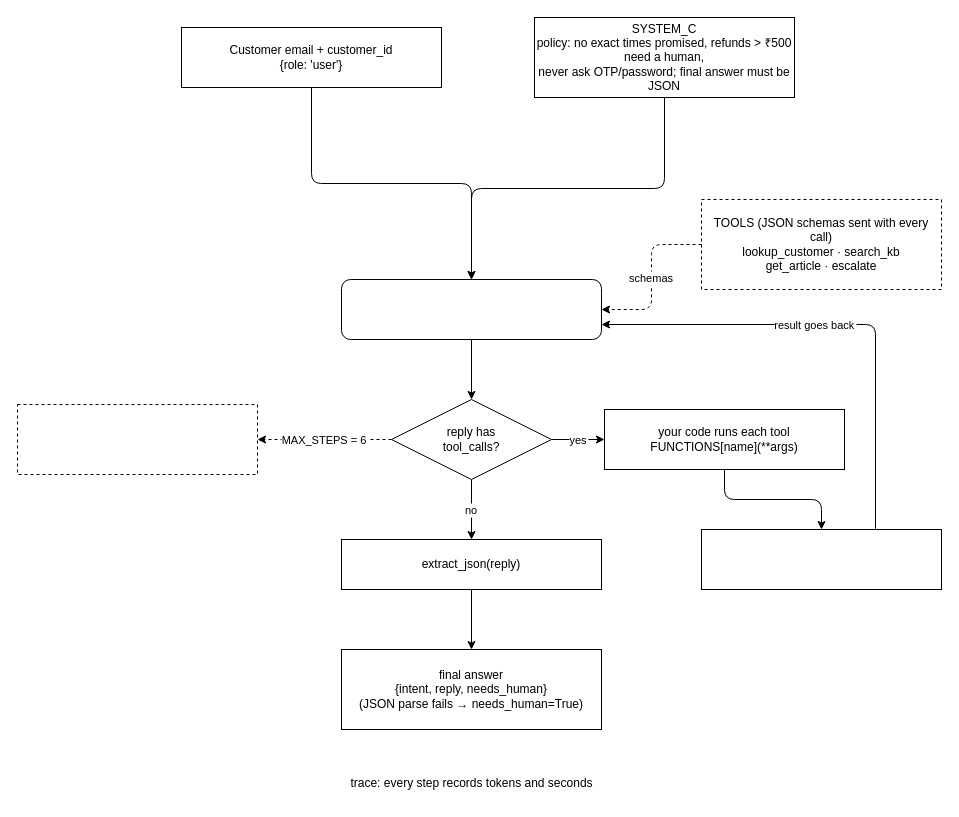
The diagram is 959 pixels wide and 817 high, and some of its shapes have lost their labels. Here are the shapes that lost their labels. From the top down, the centre of each, then its label:
At pixel 471 309: "chat(messages, tools=TOOLS) the model call (Ollama, temperature=0)".
At pixel 137 439: "stop after 6 calls {gave_up: True, needs_human: True}".
At pixel 821 559: "append {role: 'tool', result} to messages".
